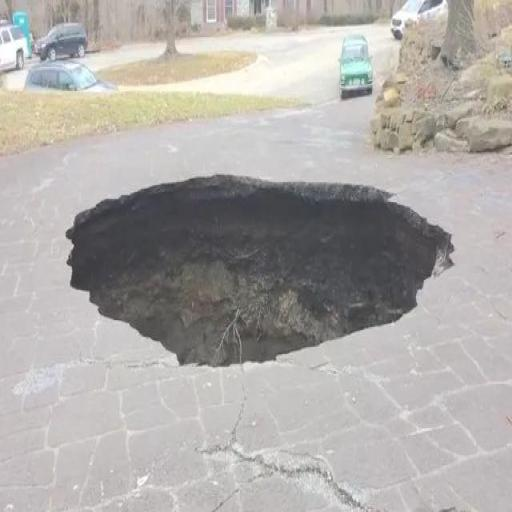Concentric_Crack: (66, 174, 453, 365)
